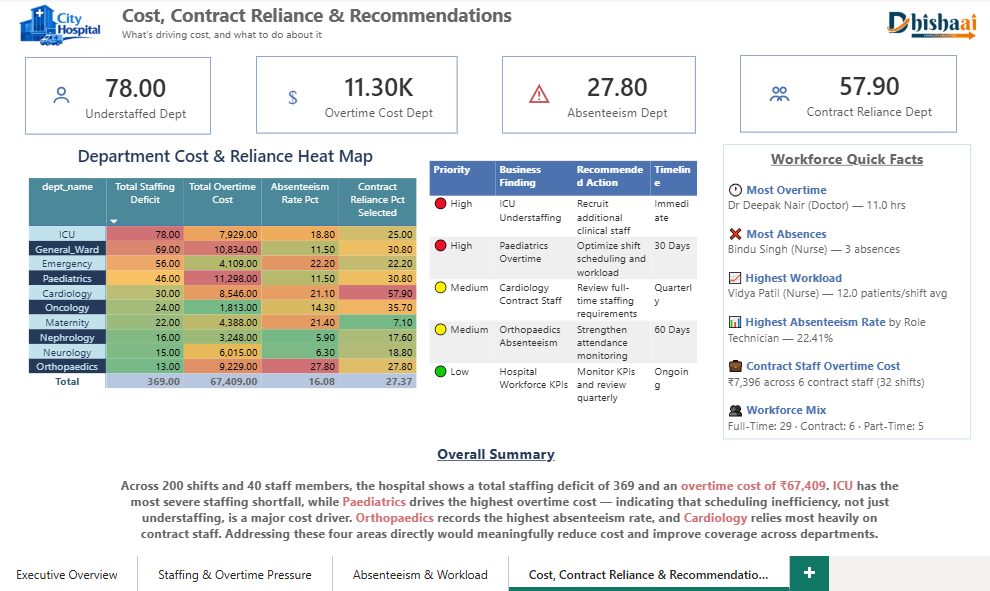

This screenshot's page, from the dashboard's own definition file:
{"tool":"powerbi","page":{"name":"Cost, Contract Reliance & Recommendations","canvas":[1280,720],"ordinal":3},"visuals":[{"type":"textbox","box":[151.7,0,1128.2,65.2],"z":0},{"type":"cardVisual","fields":{"Data":["SycTable.ICU_StaffingDeficit"]},"box":[32.2,75.6,240,100],"z":1},{"type":"cardVisual","fields":{"Data":["SycTable.Paediatrics_OvertimeCost"]},"box":[329.9,74.3,260,100],"z":2},{"type":"cardVisual","fields":{"Data":["SycTable.Orthopaedics_AbsenteeismRate"]},"box":[647.6,74.9,250,100],"z":3},{"type":"cardVisual","fields":{"Data":["SycTable.Cardiology_ContractPct"]},"box":[955.3,73.7,280,100],"z":4},{"type":"image","box":[1138.1,8.5,131.8,53.9],"z":5},{"type":"image","box":[0,1.4,154.5,66.6],"z":6},{"type":"pivotTable","title":"Department Cost & Reliance Heat Map","fields":{"Rows":["Agg_Dept_Summary.dept_name"],"Values":["SycTable.Total Staffing Deficit","SycTable.Total Overtime Cost","SycTable.Absenteeism Rate Pct","SycTable.Contract Reliance Pct Selected"]},"box":[31.7,188.3,516.7,330],"z":7},{"type":"tableEx","fields":{"Values":["daxActionTimeline.Priority","daxActionTimeline.Business Finding","daxActionTimeline.Recommended Action","daxActionTimeline.Timeline"]},"box":[548.5,205.5,366.7,330],"z":8},{"type":"textbox","box":[0,569.8,1279.8,150.2],"z":9},{"type":"textbox","box":[932.6,188.5,320.3,381.3],"z":10}]}

Visuals, with their boxes on the page's 1280x720 design canvas (x1, y1, x2, y2). These are canvas units, not pixel positions in the 990x591 screenshot, which may show the page scaled, cropped or inside an application window:
textbox: left=152, top=0, right=1280, bottom=65
cardVisual - SycTable.ICU_StaffingDeficit: left=32, top=76, right=272, bottom=176
cardVisual - SycTable.Paediatrics_OvertimeCost: left=330, top=74, right=590, bottom=174
cardVisual - SycTable.Orthopaedics_AbsenteeismRate: left=648, top=75, right=898, bottom=175
cardVisual - SycTable.Cardiology_ContractPct: left=955, top=74, right=1235, bottom=174
image: left=1138, top=8, right=1270, bottom=62
image: left=0, top=1, right=154, bottom=68
"Department Cost & Reliance Heat Map" pivotTable: left=32, top=188, right=548, bottom=518
tableEx - daxActionTimeline.Priority x daxActionTimeline.Business Finding: left=548, top=206, right=915, bottom=536
textbox: left=0, top=570, right=1280, bottom=720
textbox: left=933, top=188, right=1253, bottom=570
